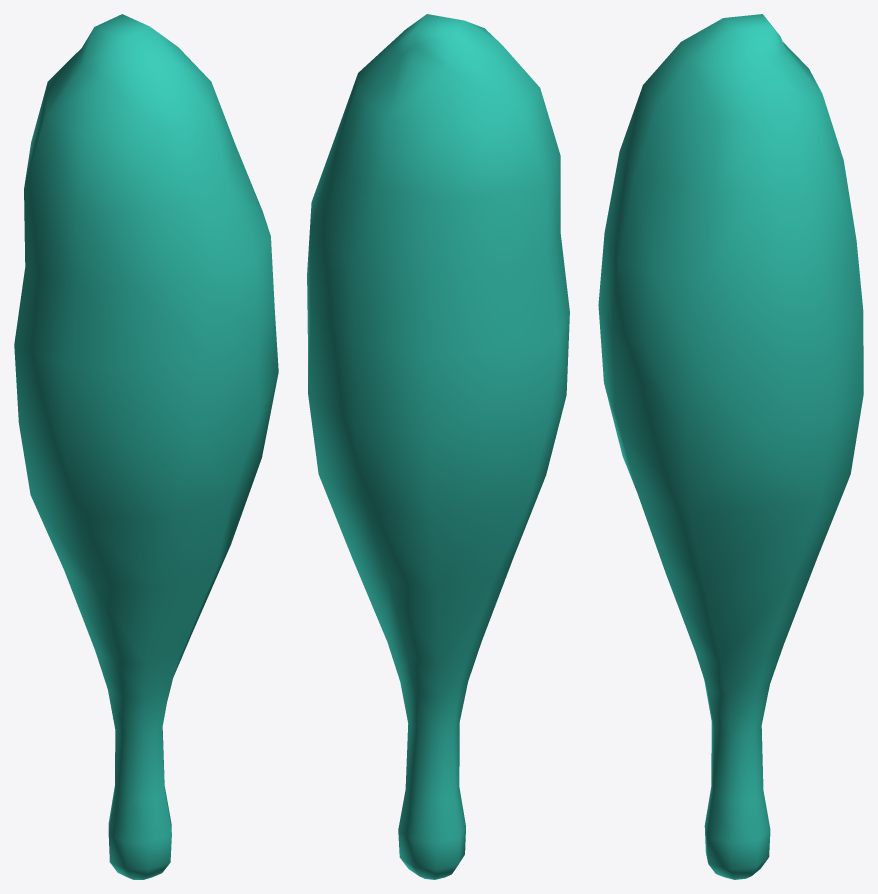
File: Wooden_Club.FBX
The picture shows the model from 3 angles, left to right: view 1: azimuth 30°, elevation 25°; view 2: azimuth 150°, elevation 25°; view 3: azimuth 270°, elevation 25°; orthographic projection.
Visible parts, largest first — view 1: Wooden_Club; view 2: Wooden_Club; view 3: Wooden_Club.
Boxes of the visible parts, x1=… form: Wooden_Club: x1=14, y1=14, x2=278, y2=879; Wooden_Club: x1=307, y1=14, x2=569, y2=879; Wooden_Club: x1=598, y1=14, x2=863, y2=879.
Size of the model in its own units: 53.99 by 183 by 51.86.
